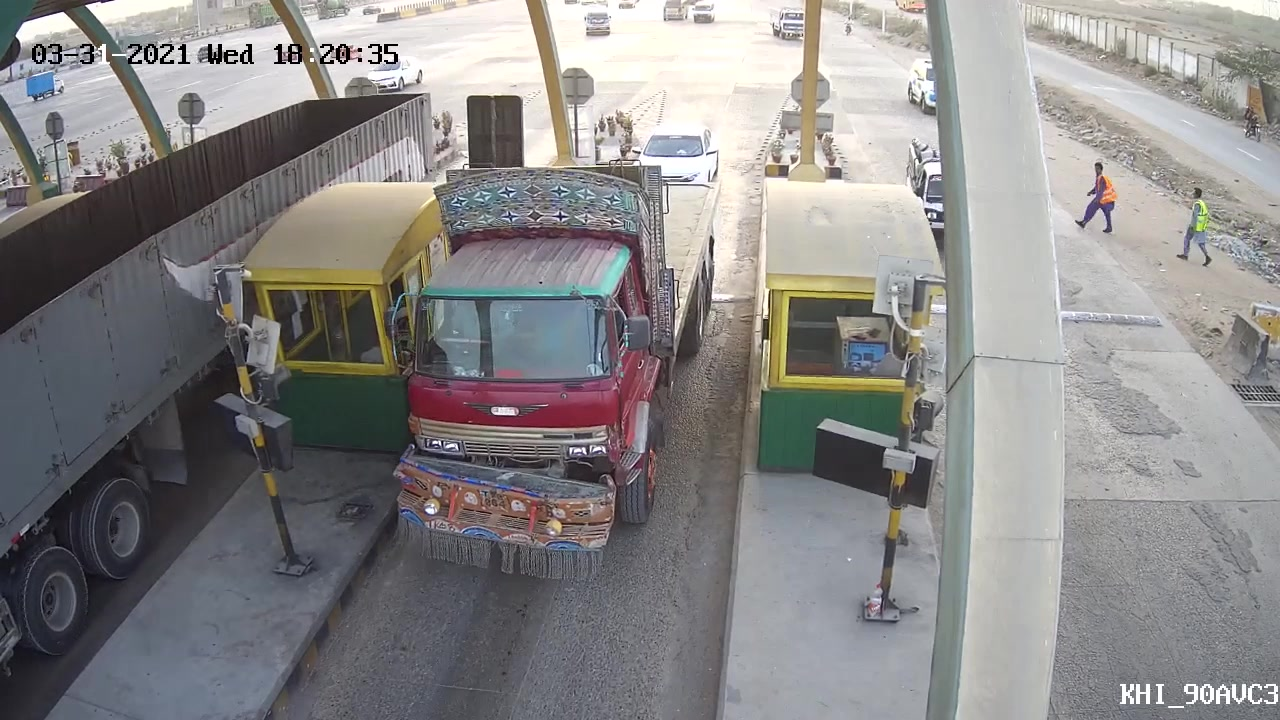F6: (390, 148, 737, 570)
